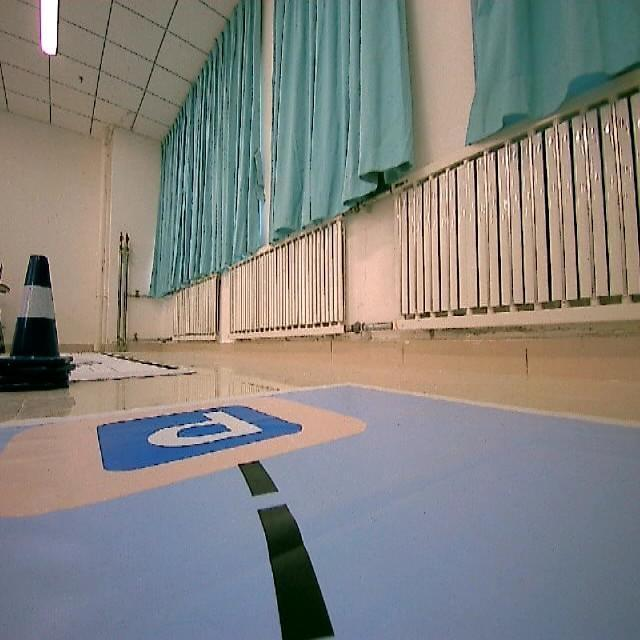obstacle: (0, 246, 80, 402)
